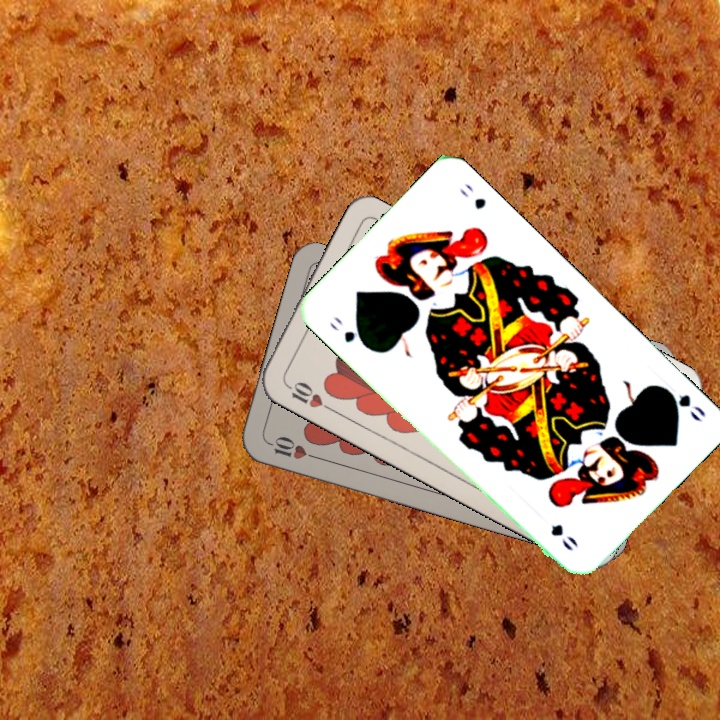GO: (657, 382, 708, 425), (326, 312, 371, 351)
H10: (280, 377, 335, 414), (264, 432, 322, 462)
